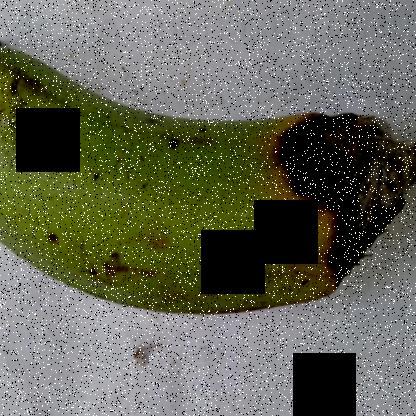rotten: (240, 84, 416, 332)
unripe: (0, 30, 260, 320)
